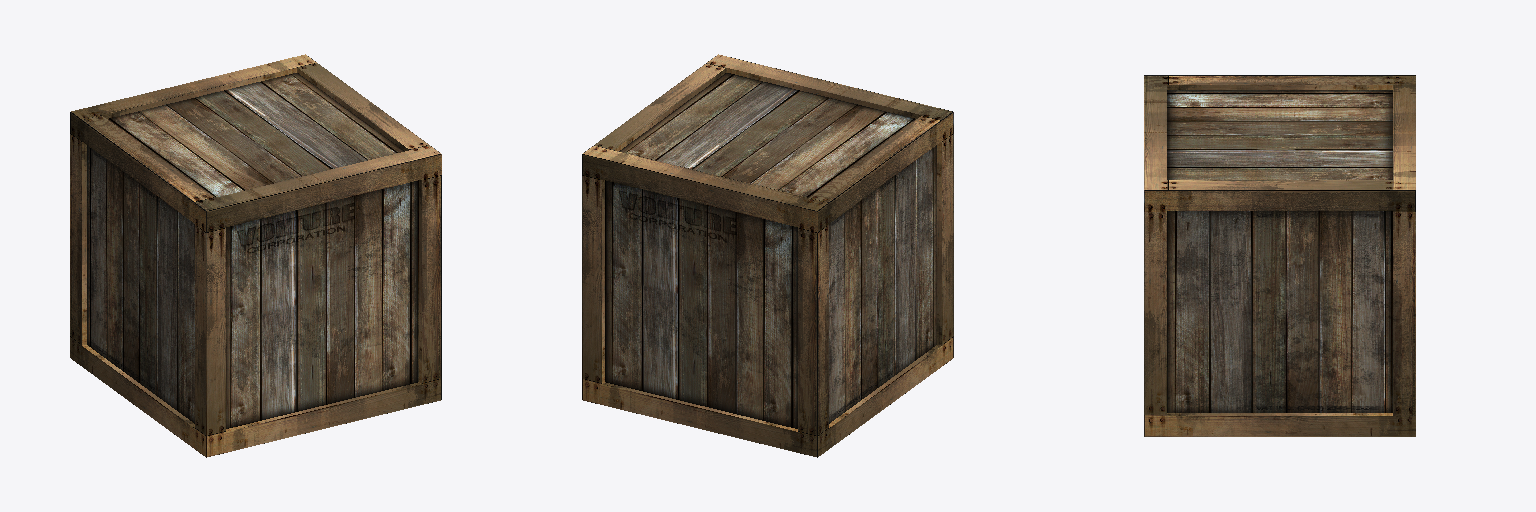
3 renders of one model, left to right at view 1: azimuth 30°, elevation 25°; view 2: azimuth 150°, elevation 25°; view 3: azimuth 270°, elevation 25°, orthographic.
Parts seen in each view (by area): view 1: Wood_container1; view 2: Wood_container1; view 3: Wood_container1.
Part boxes in pixels (bbox=[...]): Wood_container1: bbox=[70, 54, 441, 457]; Wood_container1: bbox=[582, 54, 953, 457]; Wood_container1: bbox=[1144, 75, 1415, 436].
Bounding box in the file's own units: 200 × 200 × 200.
Materials: 1 (1 with a texture image).